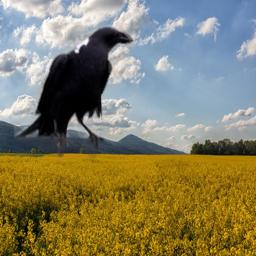Crow: (13, 23, 136, 163)
